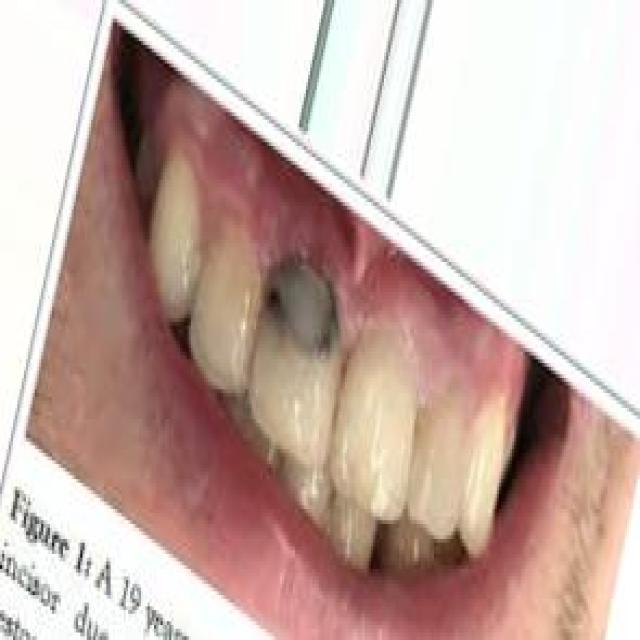caries: (258, 241, 343, 364)
